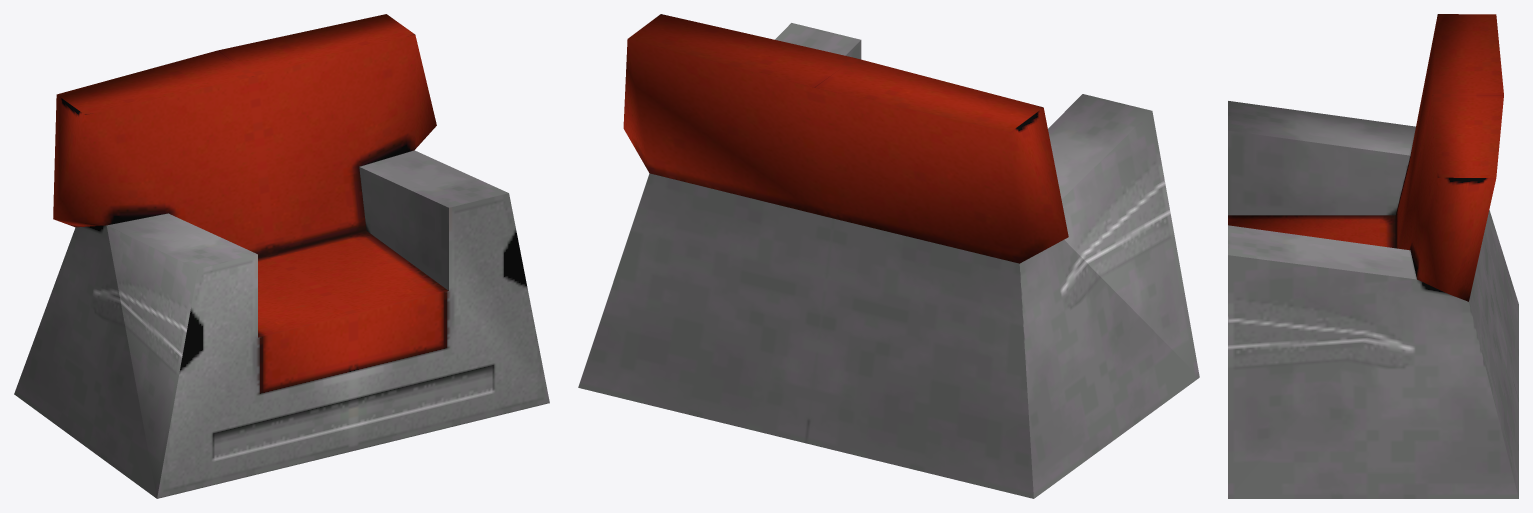
File: eqp_jedi_council_seat_s1_l3.fbx
3 views of the same model, side by side, from view 1: azimuth 30°, elevation 25°; view 2: azimuth 150°, elevation 25°; view 3: azimuth 270°, elevation 25° (orthographic). The views are drawn at different scales.
Visible parts, largest first — view 1: mesh_node; view 2: mesh_node; view 3: mesh_node.
Part boxes in pixels (<box>): mesh_node: <box>14,14,549,498</box>; mesh_node: <box>578,14,1199,498</box>; mesh_node: <box>1228,14,1518,498</box>.
Bounding box in the file's own units: 1.59 × 1.16 × 1.
